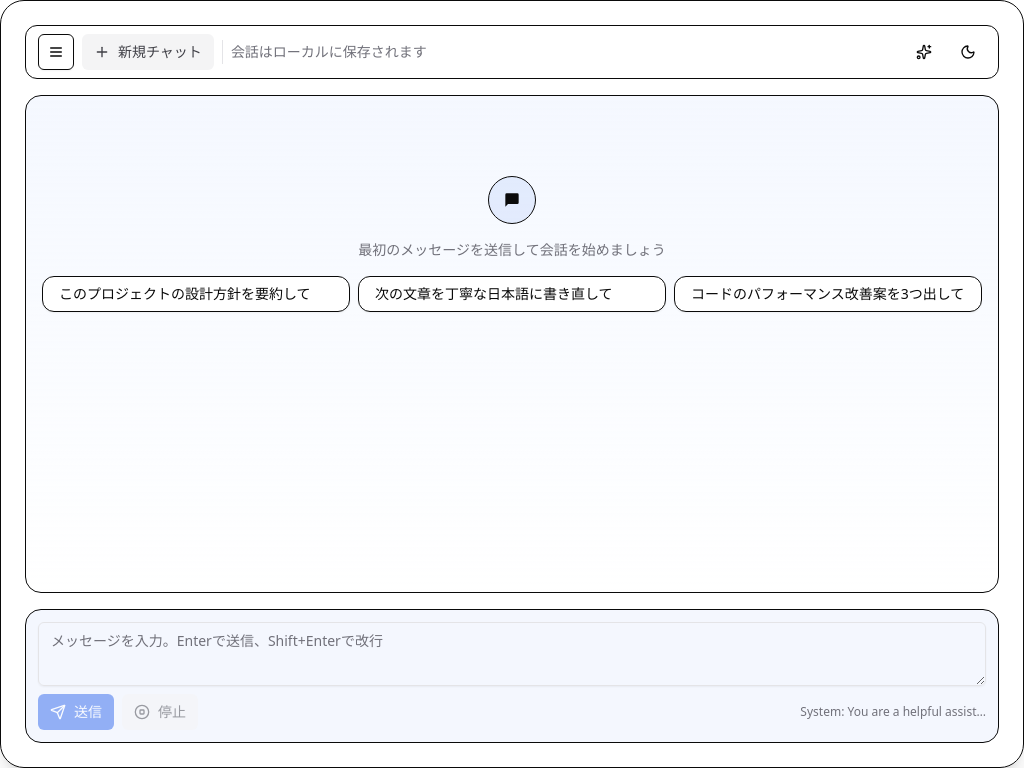
Test: Chat i18n › Dynamic content behavior › clicking suggestion sets input value
Click the button "このプロジェクトの設計方針を要約して" at coordinates (196, 294), box left=42, top=276, right=350, bottom=312
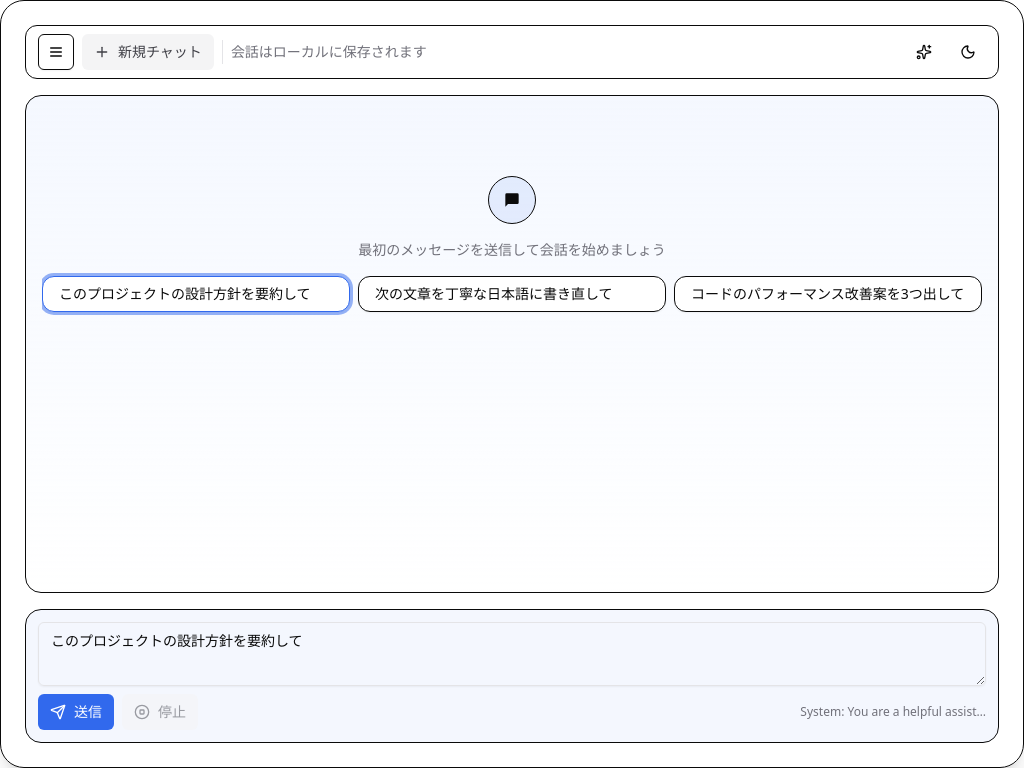
Expected: the text box with placeholder "メッセージを入力。Enterで送信、Shift+Enterで改行" holds "このプロジェクトの設計方針を要約して", left=38, top=622, right=986, bottom=686
